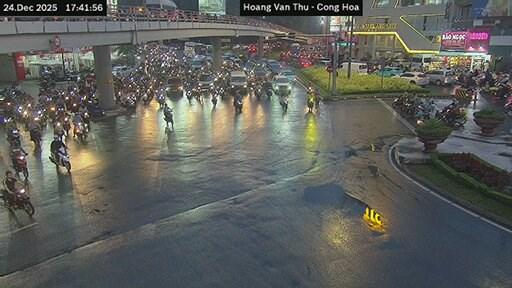motorbike: (3, 188, 34, 215), (48, 147, 70, 171), (12, 154, 28, 178), (29, 126, 41, 147), (73, 121, 86, 138), (54, 121, 64, 139), (61, 116, 70, 135), (502, 97, 511, 116), (7, 130, 19, 144), (163, 108, 172, 126), (278, 98, 287, 111), (234, 99, 242, 112), (156, 94, 163, 108), (307, 98, 313, 112), (211, 93, 217, 100), (211, 101, 215, 106)
